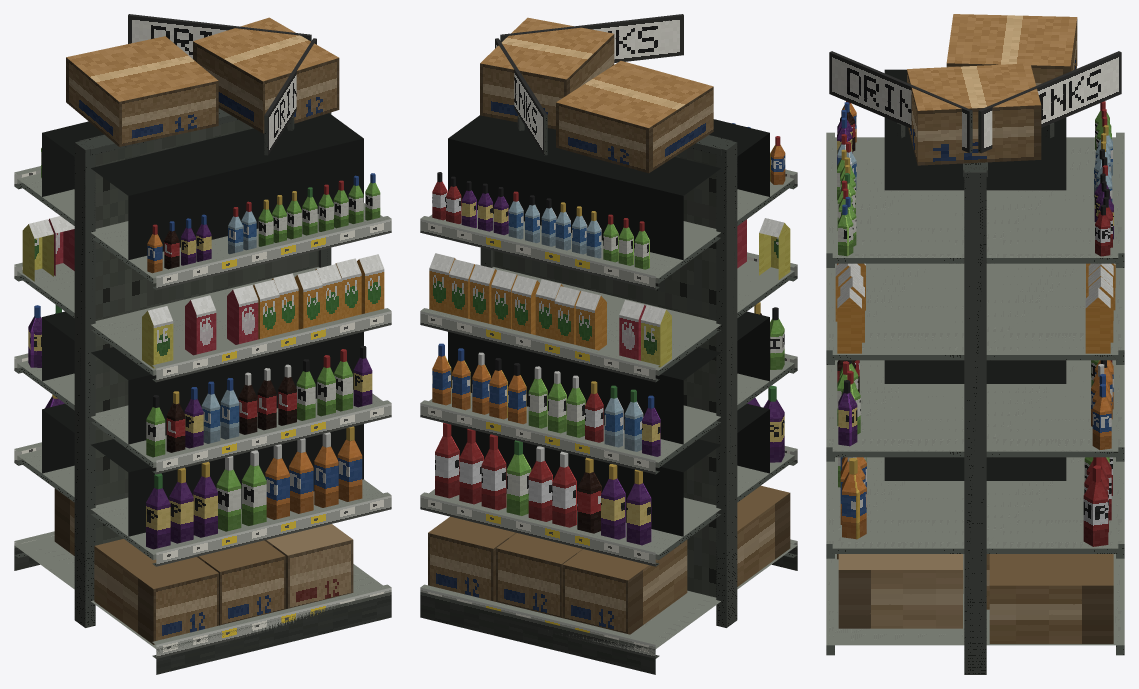
Rendered from gondola_drinks.glb.
The picture shows the model from 3 angles, left to right: view 1: azimuth 30°, elevation 25°; view 2: azimuth 150°, elevation 25°; view 3: azimuth 270°, elevation 25°; orthographic projection. The views are drawn at different scales.
Parts seen in each view (by area): view 1: GondolaDrinks; view 2: GondolaDrinks; view 3: GondolaDrinks.
Part boxes in pixels (<box>): GondolaDrinks: <box>14,14,391,674</box>; GondolaDrinks: <box>420,14,797,674</box>; GondolaDrinks: <box>826,14,1124,674</box>.
Size of what is drawn, in the model's own units: 1.2 by 2.47 by 1.2.
1 material, 1 textured.
